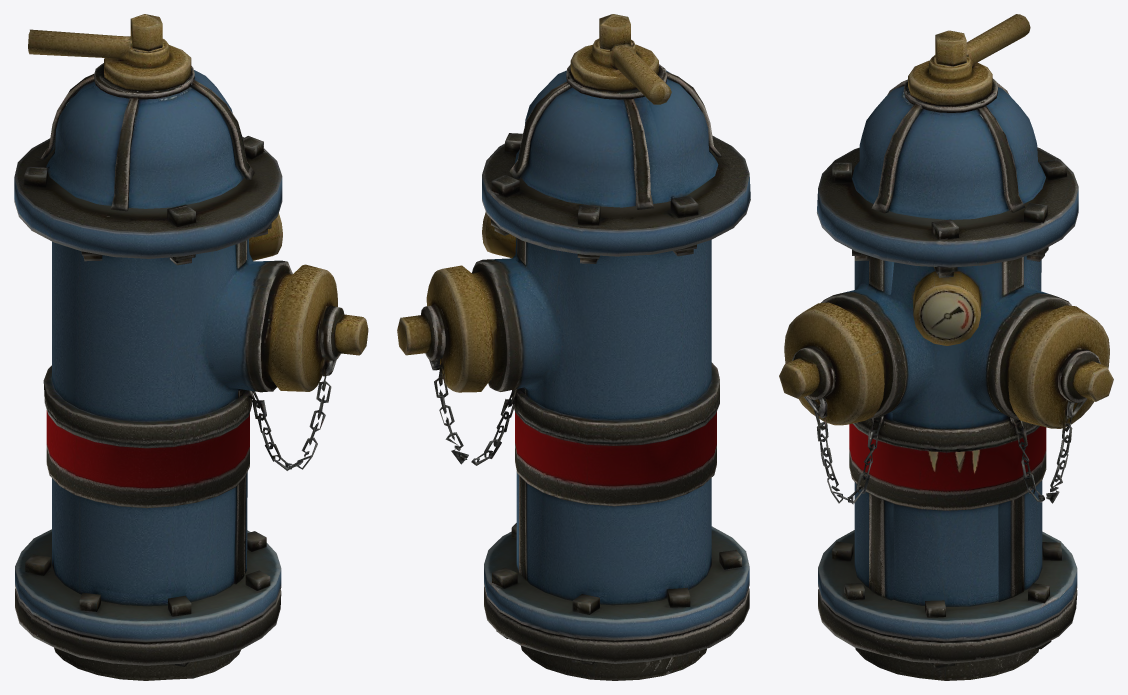
File: tripo_convert_0a16797e-2372-4122-82ee-5a4b7a810995.fbx
3 views of the same model, side by side, from view 1: azimuth 30°, elevation 25°; view 2: azimuth 150°, elevation 25°; view 3: azimuth 270°, elevation 25° (orthographic). The views are drawn at different scales.
Visible parts, largest first — view 1: tripo_node_0a16797e; view 2: tripo_node_0a16797e; view 3: tripo_node_0a16797e.
Boxes of the visible parts, bbox=[...] form: tripo_node_0a16797e: bbox=[14, 14, 368, 680]; tripo_node_0a16797e: bbox=[397, 14, 750, 680]; tripo_node_0a16797e: bbox=[779, 14, 1113, 680].
Bounding box in the file's own units: 0.4434 × 0.998 × 0.502.
1 material, 1 textured.
